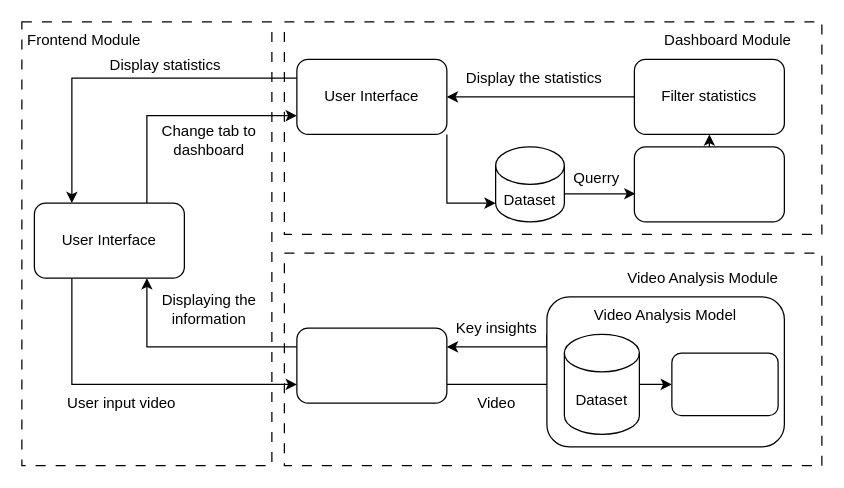
Some shapes in this 844 by 488 pixel diagram are drawn without their labels. Each missing label, with the box of its shape:
Model training: (671, 352, 778, 416)
Select football player: (633, 146, 784, 222)
Video Analysis: (296, 327, 447, 403)
